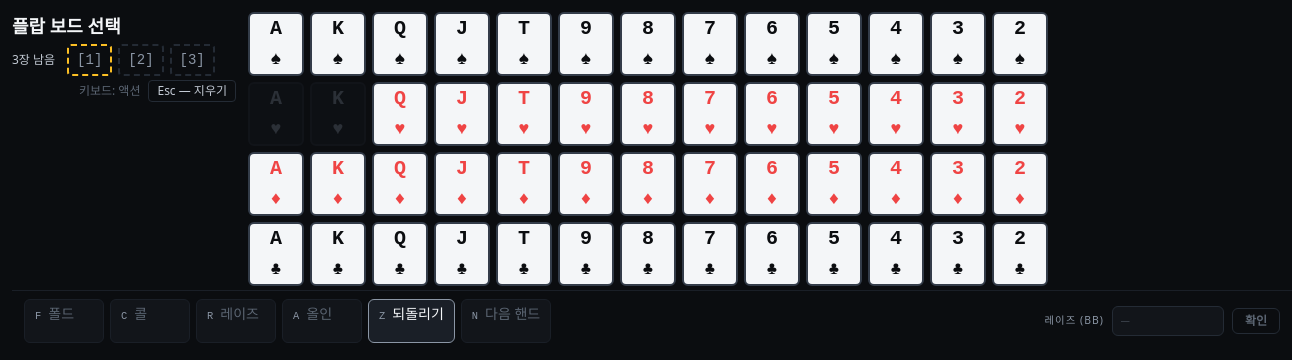
CardPalette — taking back ONE card › leaves Backspace and the full-clear Esc doing exactly what they did
This screenshot has width=1292, height=360.
Click the button with test id "palette-2c": click(1020, 254) [992,222,1048,286]
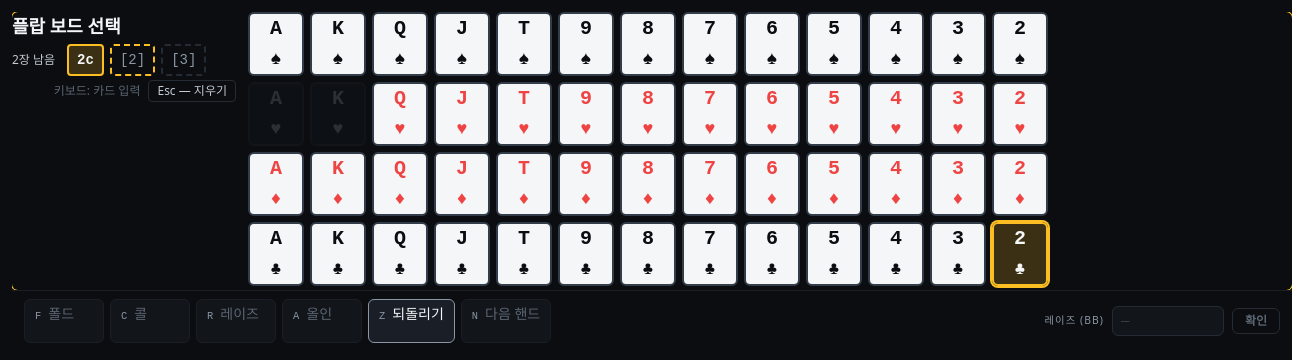
Click the button with test id "palette-7d": click(710, 184) [682,152,738,216]
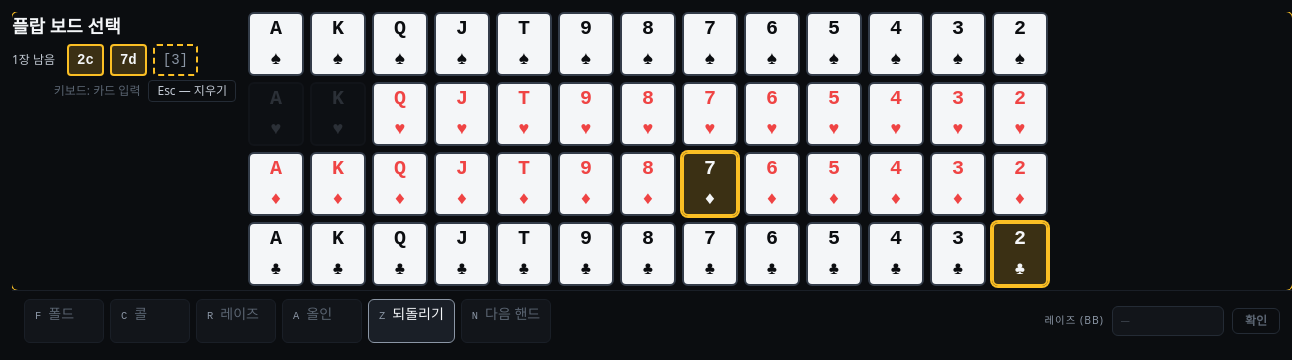
Press Backspace in the element with test id "card-palette"
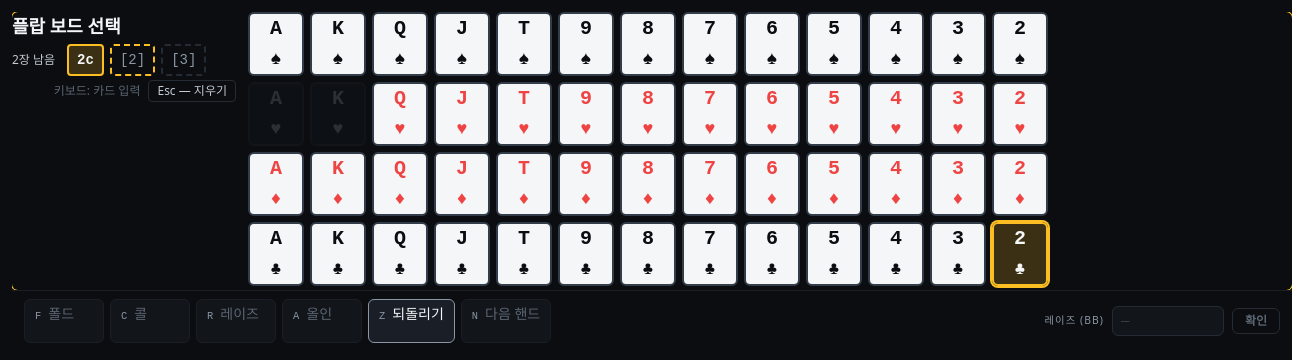
Expected: the button with test id "pick-2c" is shown, [67,44,104,76]
Expected: the button with test id "pick-7d" is gone
Press Escape in the element with test id "card-palette"
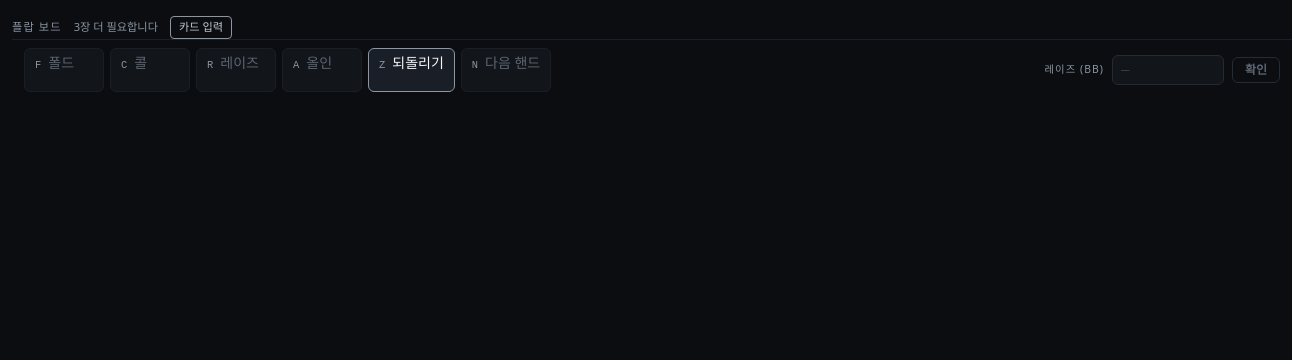
Expected: the element with test id "card-palette-closed" is shown, [12,16,232,39]
